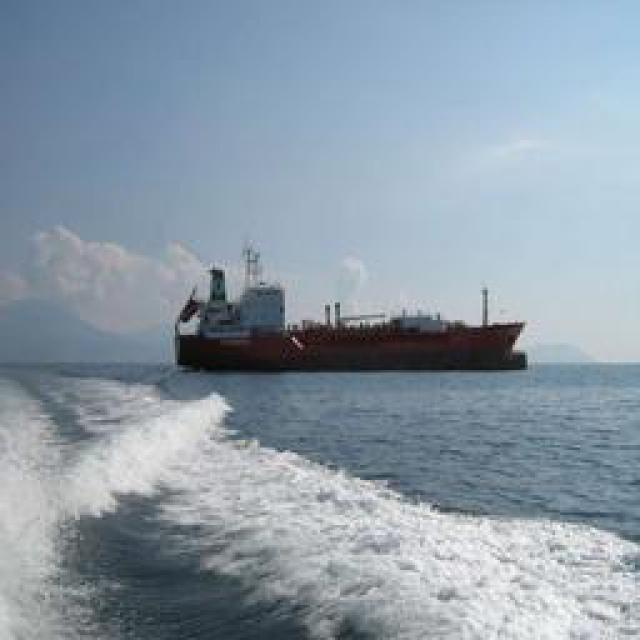Ship: (170, 251, 533, 379)
